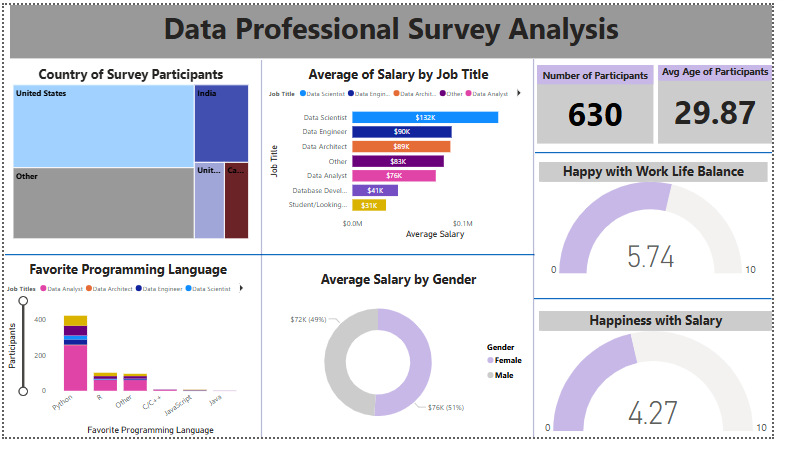

The page's visual inventory and layout, read from the dashboard file:
{"tool":"powerbi","page":{"name":"Page 1","canvas":[1280,720],"ordinal":0},"visuals":[{"type":"textbox","box":[10.1,0,1269.9,89],"z":0},{"type":"card","title":"Number of Participants","fields":{"Values":["Count(Data Professional Survey.Unique ID)"]},"box":[887.6,99.4,193.7,131.4],"z":1000},{"type":"card","title":"Avg Age of Participants","fields":{"Values":["Avg(Data Professional Survey.Q10 - Current Age)"]},"box":[1089.7,99.4,190.3,131.4],"z":2000},{"type":"barChart","title":"Average of Salary by Job Title","fields":{"Category":["Data Professional Survey.Q1 - Which Title Best Fits your Current Role?.1"],"Y":["Avg(Data Professional Survey.Average Salary)"],"Series":["Data Professional Survey.Q1 - Which Title Best Fits your Current Role?.1"]},"box":[436.2,99.4,441.3,294.7],"z":3000},{"type":"columnChart","title":"Favorite Programming Language","fields":{"Category":["Data Professional Survey.Q5 - Favorite Programming Language.1"],"Y":["CountNonNull(Data Professional Survey.Unique ID)"],"Series":["Data Professional Survey.Q1 - Which Title Best Fits your Current Role?.1"]},"box":[0,425,413.2,295.6],"z":4000},{"type":"treemap","title":"Country of Survey Participants","fields":{"Group":["Data Professional Survey.Q11 - Which Country do you live in?.1"],"Values":["CountNonNull(Data Professional Survey.Q11 - Which Country do you live in?.1)"]},"box":[10.1,99.4,402.5,294.7],"z":5000},{"type":"gauge","title":"Happy with Work Life Balance","fields":{"Y":["Avg(Data Professional Survey.Q6 - How Happy are you in your Current Position with the following? (Work/Life Balance))"],"MinValue":["Min(Data Professional Survey.Q6 - How Happy are you in your Current Position with the following? (Work/Life Balance))1"],"MaxValue":["Max(Data Professional Survey.Q6 - How Happy are you in your Current Position with the following? (Work/Life Balance))2"]},"box":[890.9,261.1,380.6,195.4],"z":6000},{"type":"gauge","title":"Happiness with Salary","fields":{"Y":["Avg(Data Professional Survey.Q6 - How Happy are you in your Current Position with the following? (Salary))"],"MinValue":["Min(Data Professional Survey.Q6 - How Happy are you in your Current Position with the following? (Salary))"],"MaxValue":["Max(Data Professional Survey.Q6 - How Happy are you in your Current Position with the following? (Salary))"]},"box":[890.9,510.3,389.1,210.5],"z":7000},{"type":"donutChart","title":"Average Salary by Gender","fields":{"Category":["Data Professional Survey.Q9 - Male/Female?"],"Y":["Avg(Data Professional Survey.Average Salary)"]},"box":[436.2,441.3,441.3,279.6],"z":8000},{"type":"shape","box":[1.7,399.2,882.5,35.4],"z":9000},{"type":"shape","box":[875.8,89.3,15.2,631.6],"z":10000},{"type":"shape","box":[421.1,90.9,15,631.6],"z":11000},{"type":"shape","box":[882.5,474.9,395.8,28.6],"z":12000},{"type":"shape","box":[884.2,232.4,395.8,28.6],"z":13000}]}

Visuals, with their boxes on the page's 1280x720 design canvas (x1, y1, x2, y2). These are canvas units, not pixel positions in the 785x457 screenshot, which may show the page scaled, cropped or inside an application window:
textbox: box(10, 0, 1280, 89)
"Number of Participants" card: box(888, 99, 1081, 231)
"Avg Age of Participants" card: box(1090, 99, 1280, 231)
"Average of Salary by Job Title" barChart: box(436, 99, 878, 394)
"Favorite Programming Language" columnChart: box(0, 425, 413, 721)
"Country of Survey Participants" treemap: box(10, 99, 413, 394)
"Happy with Work Life Balance" gauge: box(891, 261, 1272, 456)
"Happiness with Salary" gauge: box(891, 510, 1280, 721)
"Average Salary by Gender" donutChart: box(436, 441, 878, 721)
shape: box(2, 399, 884, 435)
shape: box(876, 89, 891, 721)
shape: box(421, 91, 436, 722)
shape: box(882, 475, 1278, 504)
shape: box(884, 232, 1280, 261)
